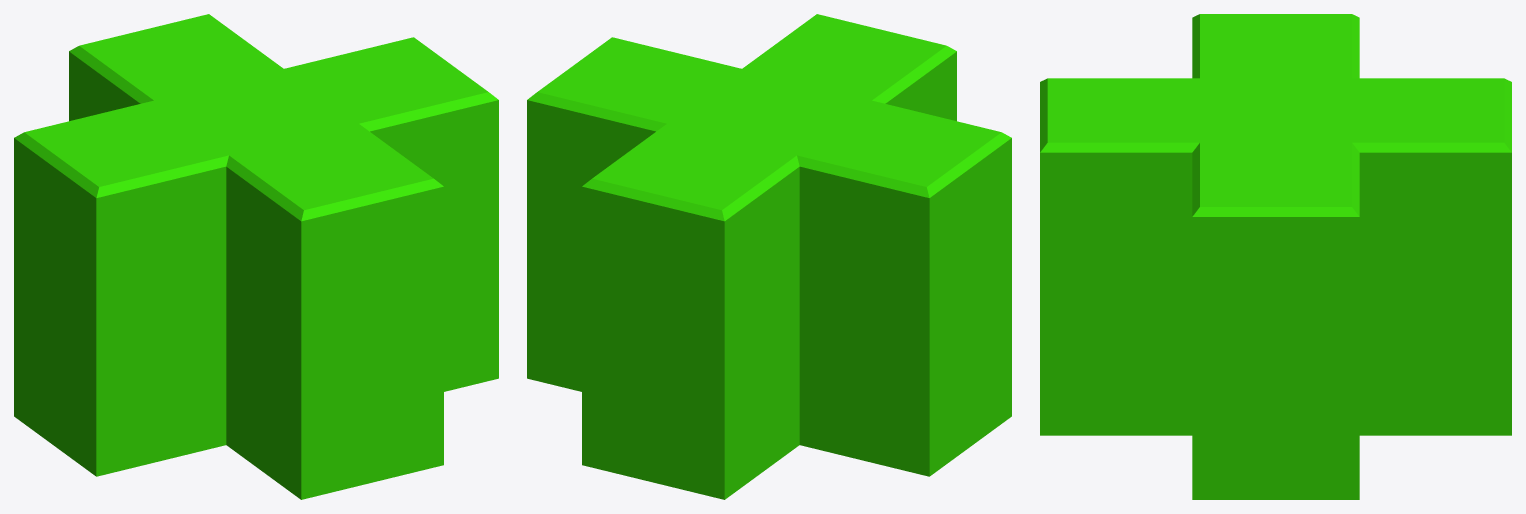
File: basic_X_2.fbx
3 renders of one model, left to right at view 1: azimuth 30°, elevation 25°; view 2: azimuth 150°, elevation 25°; view 3: azimuth 270°, elevation 25°, orthographic.
Visible parts, largest first — view 1: basic_X_2; view 2: basic_X_2; view 3: basic_X_2.
Part boxes in pixels (left/top/right/bottom): basic_X_2: left=14, top=14, right=498, bottom=499; basic_X_2: left=527, top=14, right=1011, bottom=499; basic_X_2: left=1040, top=14, right=1511, bottom=499.
Size of the model in its own units: 310 by 210 by 310.
